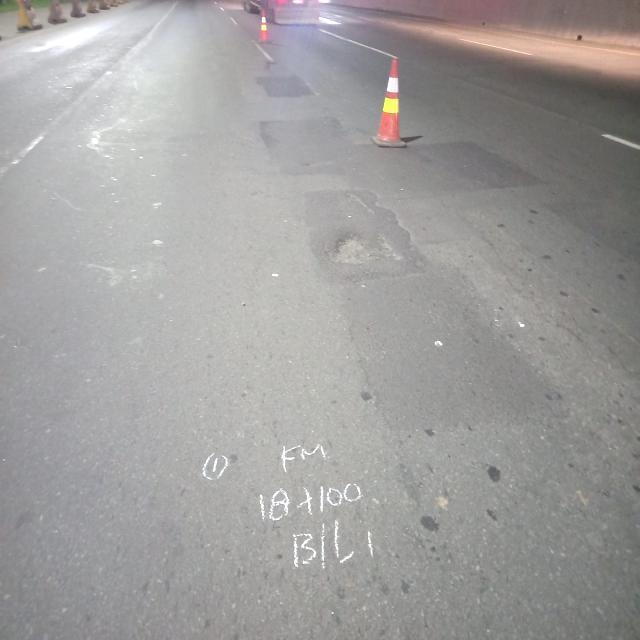Buraco: (323, 229, 406, 268)
